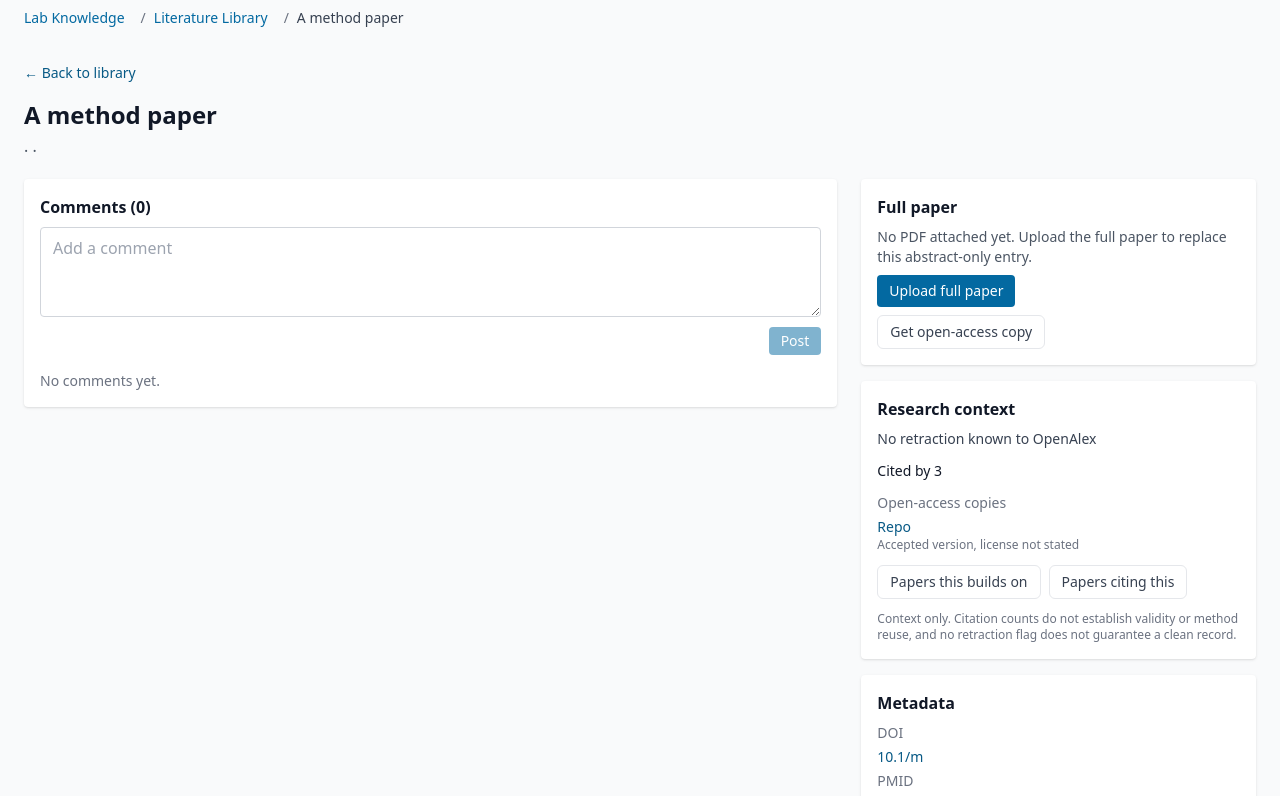
Test: a 404 says so plainly and leaves the paper as it was
This screenshot has width=1280, height=796.
Click the button "Get open-access copy" at (961, 332), box [877, 315, 1045, 349]
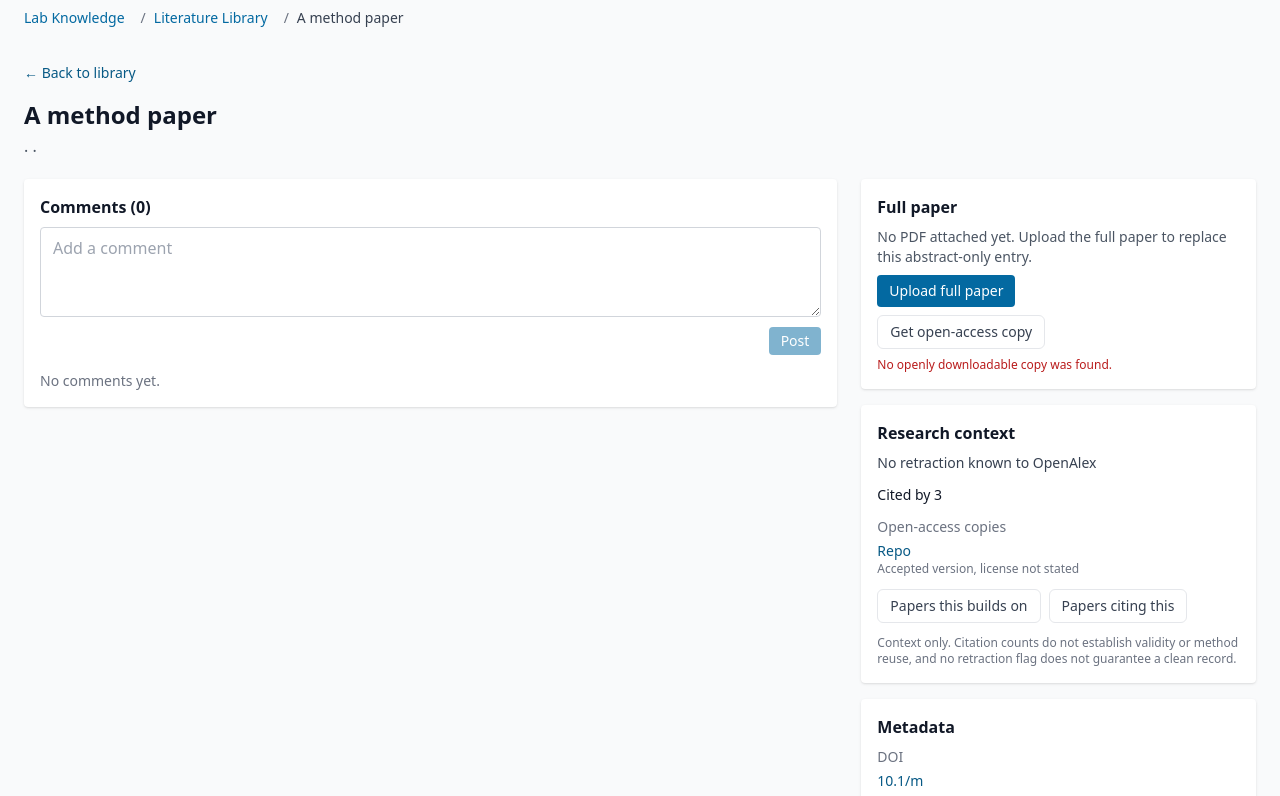
Expected: the heading "A method paper" is shown, [24, 98, 217, 131]
Now the text "No openly downloadable copy was found." is shown, box [877, 356, 1112, 373]
